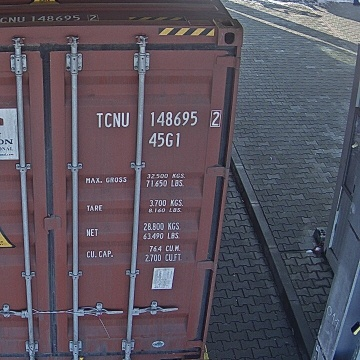serial_id: (96, 111, 219, 127)
